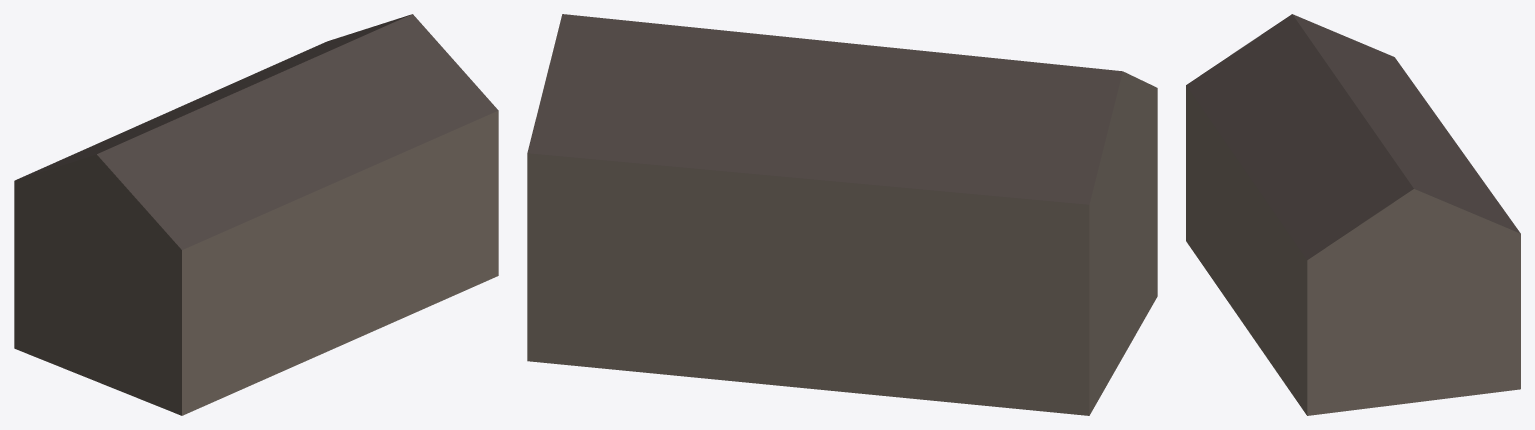
The picture shows the model from 3 angles, left to right: view 1: azimuth 30°, elevation 25°; view 2: azimuth 150°, elevation 25°; view 3: azimuth 270°, elevation 25°; orthographic projection. The views are drawn at different scales.
Visible parts, largest first — view 1: HP-w1376988757; view 2: HP-w1376988757; view 3: HP-w1376988757.
Part boxes in pixels (left/top/right/bottom): HP-w1376988757: left=14, top=14, right=498, bottom=415; HP-w1376988757: left=527, top=14, right=1157, bottom=415; HP-w1376988757: left=1186, top=14, right=1520, bottom=415.
Bounding box in the file's own units: 16.62 × 8.25 × 11.71.
